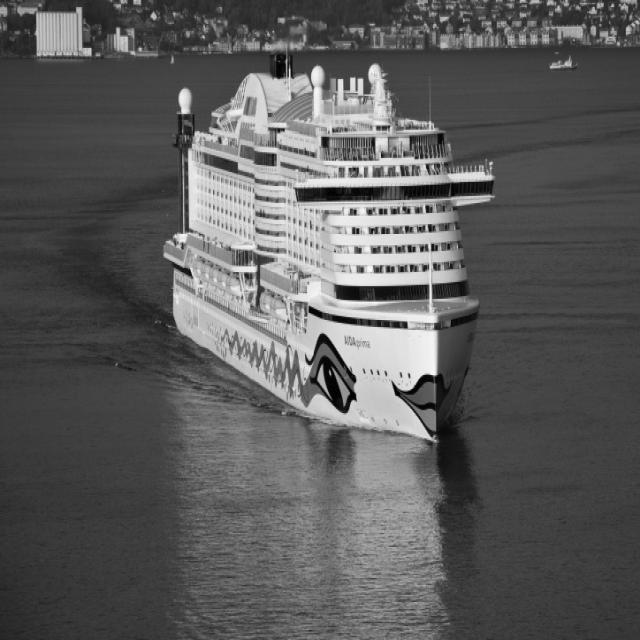cruises: (165, 47, 488, 462)
